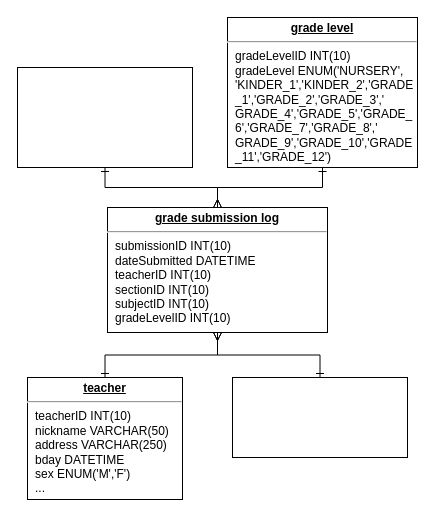
This 435x517 diagram has some shape labels left out. Here are the shapes that lost their labels. From the top down, the box of each, then its label:
(16, 66, 192, 168): subject subjectID INT(10) subjectCode INT(10) subjectName VARCHAR(50)
(232, 376, 408, 458): section sectionID INT(10) sectionName VARCHAR(250)
